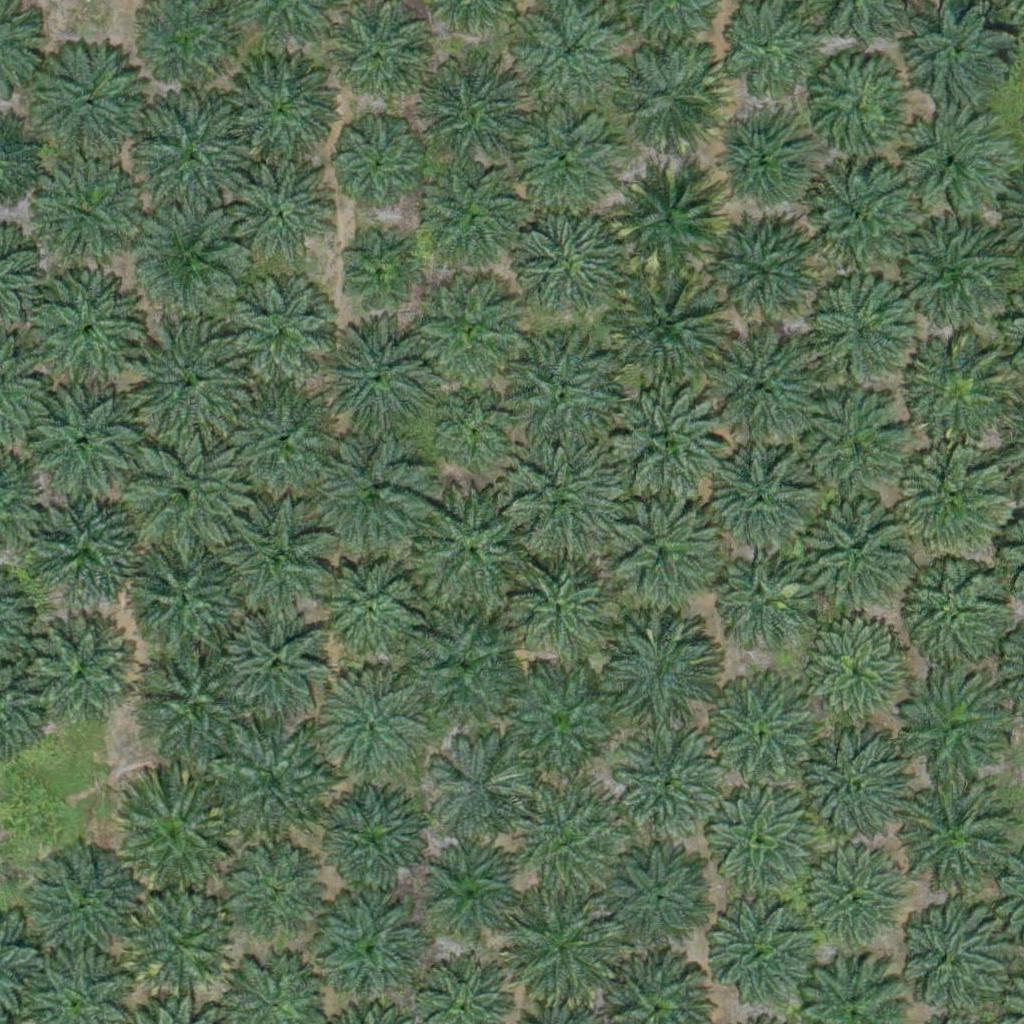Kelapa_Sawit: (131, 97, 256, 223), (124, 318, 249, 444), (120, 433, 245, 559), (416, 489, 541, 615), (502, 336, 627, 462), (111, 777, 236, 902), (507, 211, 620, 325), (418, 54, 531, 168), (225, 384, 338, 498), (222, 277, 335, 391), (704, 787, 817, 901), (598, 842, 711, 956), (898, 224, 1011, 337), (804, 162, 917, 275), (133, 205, 246, 318), (27, 159, 140, 272), (30, 41, 143, 154), (221, 609, 334, 722), (218, 505, 331, 618), (317, 789, 430, 902), (508, 441, 621, 554), (602, 618, 715, 731), (605, 498, 718, 611), (610, 394, 723, 507), (707, 677, 820, 790), (317, 325, 429, 439), (319, 439, 431, 553), (407, 618, 519, 732), (502, 669, 614, 783), (616, 728, 728, 842), (507, 889, 619, 1003), (899, 110, 1011, 223), (709, 221, 821, 334), (611, 40, 723, 153), (616, 165, 728, 278), (223, 49, 335, 162), (25, 615, 137, 728), (32, 490, 144, 603), (24, 387, 136, 500), (29, 277, 141, 390), (129, 547, 241, 660), (136, 645, 248, 758), (218, 732, 330, 845), (506, 789, 618, 902), (611, 270, 723, 383), (706, 330, 818, 443), (702, 439, 814, 552), (794, 733, 906, 846), (800, 616, 912, 729), (801, 502, 913, 615), (899, 672, 1011, 785), (894, 786, 1006, 899), (895, 897, 1007, 1010), (810, 53, 910, 154), (715, 112, 815, 213), (232, 163, 332, 264), (325, 674, 425, 775), (419, 845, 519, 946), (419, 287, 519, 388), (712, 543, 812, 644), (800, 386, 900, 487), (810, 277, 910, 378), (910, 335, 1010, 436), (902, 452, 1002, 553), (905, 561, 1005, 662), (712, 904, 812, 1005), (320, 898, 420, 999), (223, 841, 323, 942), (129, 891, 229, 992), (39, 853, 139, 954), (516, 106, 616, 206), (424, 166, 524, 266), (318, 557, 418, 657), (425, 742, 525, 842), (511, 553, 611, 653), (807, 848, 907, 948), (335, 122, 423, 210), (337, 17, 425, 105), (338, 237, 413, 313), (440, 396, 515, 472)
